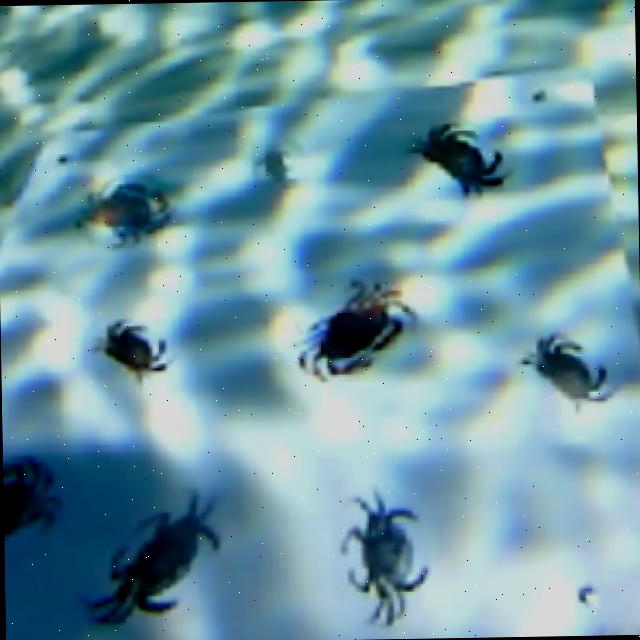green_crab: (80, 485, 237, 640), (332, 468, 442, 636), (248, 128, 306, 204)
jonah_crab: (281, 273, 424, 387), (70, 162, 186, 255), (2, 438, 64, 582)
rock_crab: (410, 105, 514, 216), (516, 310, 622, 414), (86, 302, 179, 388)
